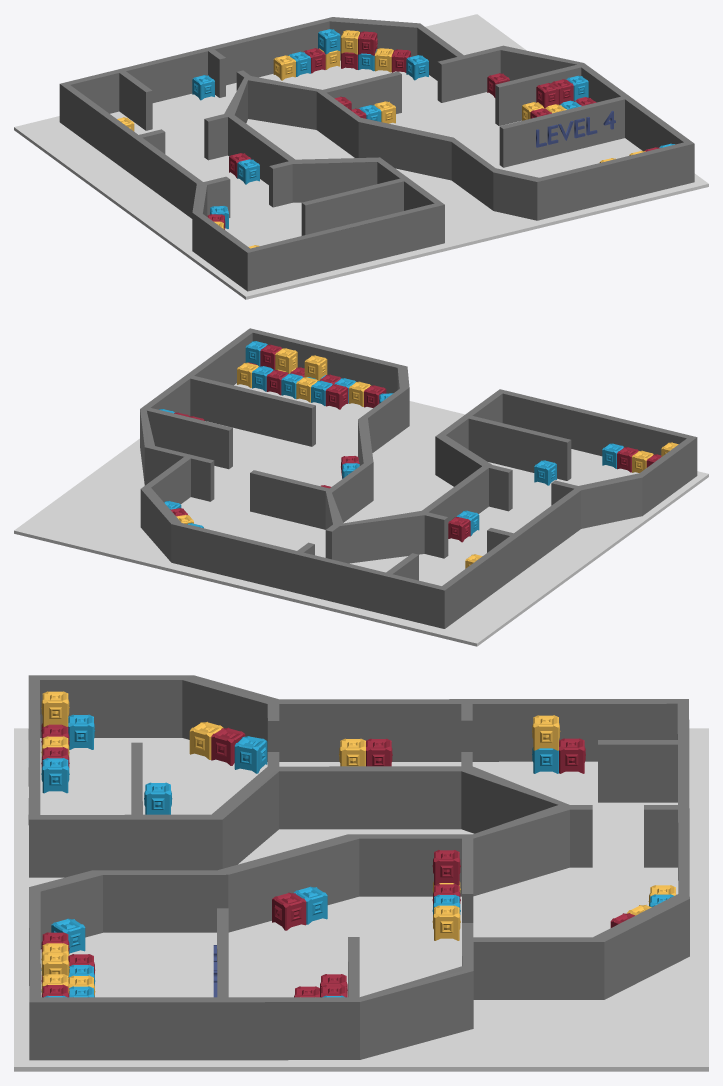
The model's file is level4.fbx.
The picture shows the model from 3 angles, top to bottom: view 1: azimuth 30°, elevation 25°; view 2: azimuth 150°, elevation 25°; view 3: azimuth 270°, elevation 25°; orthographic projection. The views are drawn at different scales.
Visible parts, largest first — view 1: walls, ground, boxes, Text; view 2: walls, ground, boxes; view 3: walls, ground, boxes.
Part boxes in pixels (x1=…): walls: x1=59, y1=17, x2=694, y2=291; ground: x1=14, y1=14, x2=708, y2=299; boxes: x1=117, y1=29, x2=674, y2=248; Text: x1=536, y1=110, x2=615, y2=147; walls: x1=140, y1=328, x2=697, y2=628; ground: x1=14, y1=383, x2=708, y2=646; boxes: x1=159, y1=341, x2=678, y2=568; walls: x1=28, y1=675, x2=689, y2=1060; ground: x1=14, y1=728, x2=708, y2=1071; boxes: x1=41, y1=691, x2=676, y2=997.
Size of the model in its own units: 14079 by 1215 by 12207.
